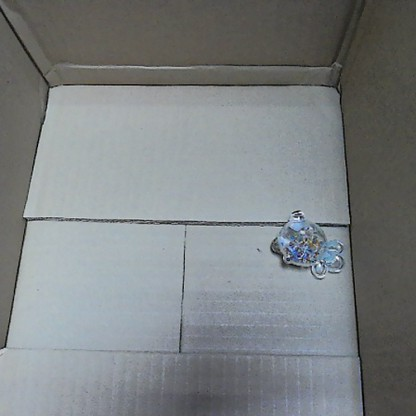whitefish: (267, 203, 346, 280)
